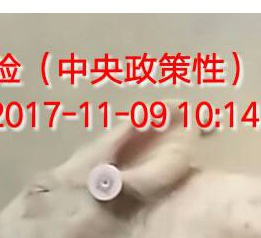text: (78, 159, 135, 211)
